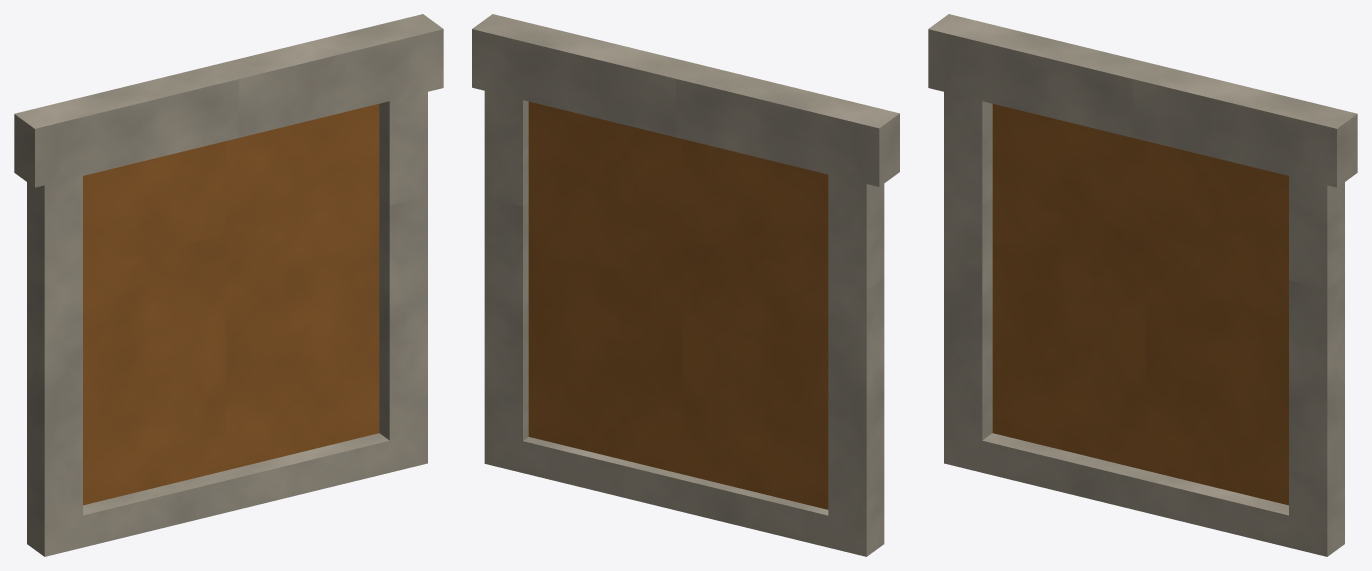
File: Facade_Dwarf_Window_1_LOD2.gltf
3 renders of one model, left to right at view 1: azimuth 30°, elevation 25°; view 2: azimuth 150°, elevation 25°; view 3: azimuth 330°, elevation 25°, orthographic.
Parts seen in each view (by area): view 1: Facade_Dwarf_Window_1_LOD2; view 2: Facade_Dwarf_Window_1_LOD2; view 3: Facade_Dwarf_Window_1_LOD2.
Part boxes in pixels (x1,y1,x2,y2): Facade_Dwarf_Window_1_LOD2: (14,14,443,556); Facade_Dwarf_Window_1_LOD2: (472,14,899,556); Facade_Dwarf_Window_1_LOD2: (928,14,1357,556).
Size of the model in its own units: 1.6 by 1.62 by 0.14.
Materials: 2 (2 with a texture image).
